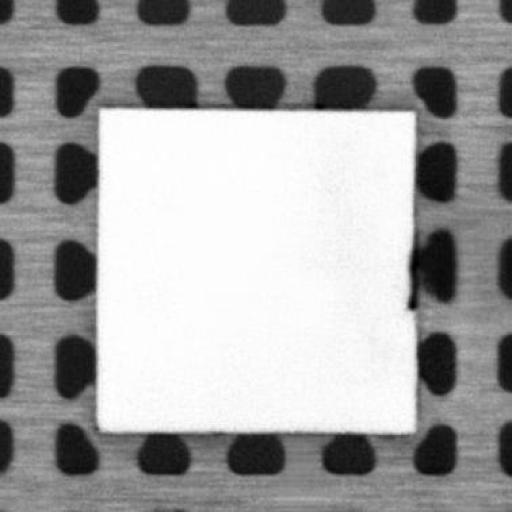DIE_BROKEN: (402, 235, 417, 311)
